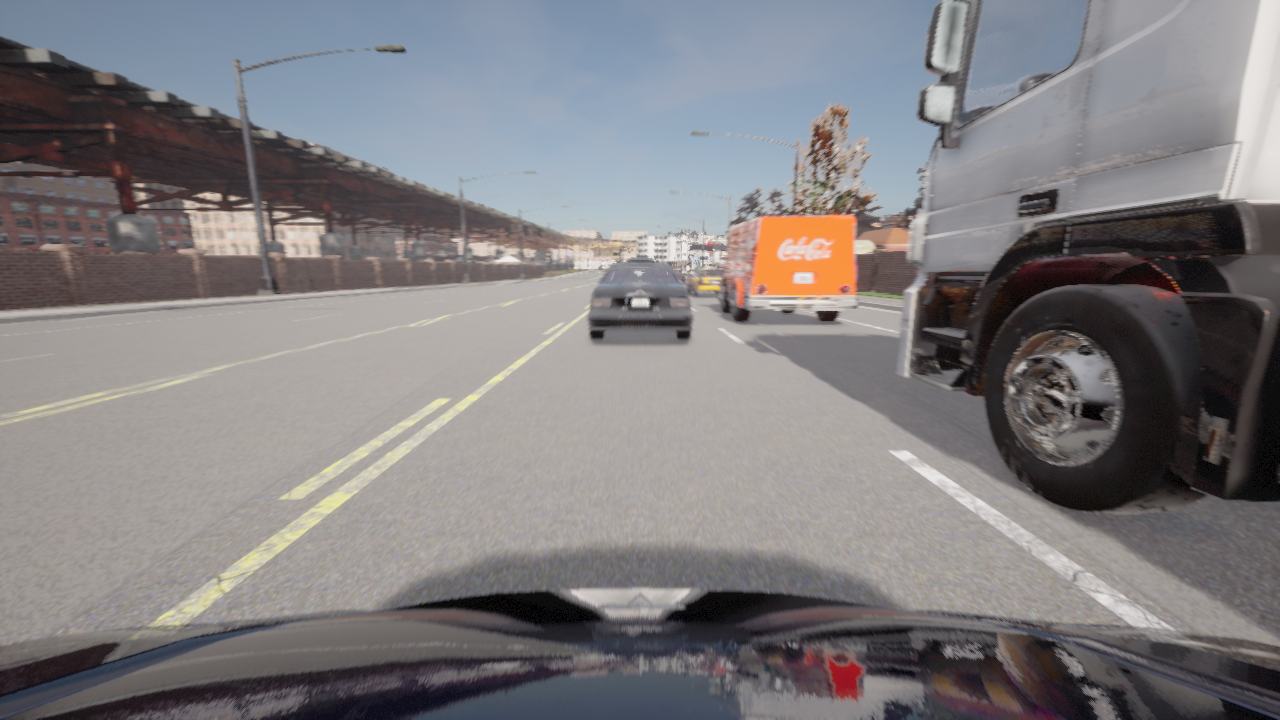cyclist: (897, 0, 1279, 513), (0, 588, 1279, 719), (713, 215, 857, 321), (588, 263, 692, 339), (687, 266, 724, 296), (674, 270, 684, 283), (626, 258, 653, 262)
